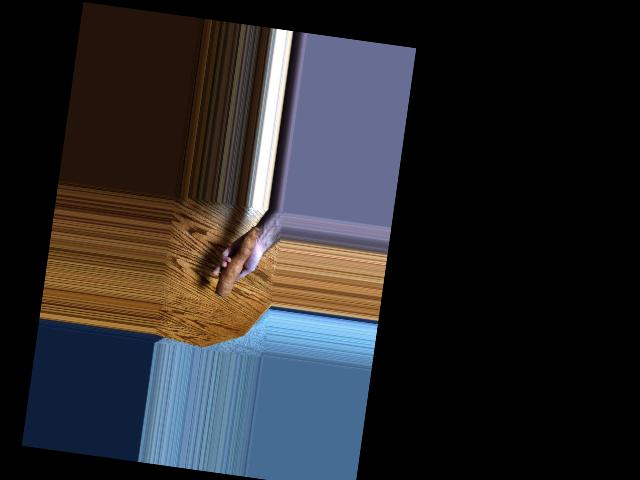sweet_potato: (213, 219, 262, 301)
